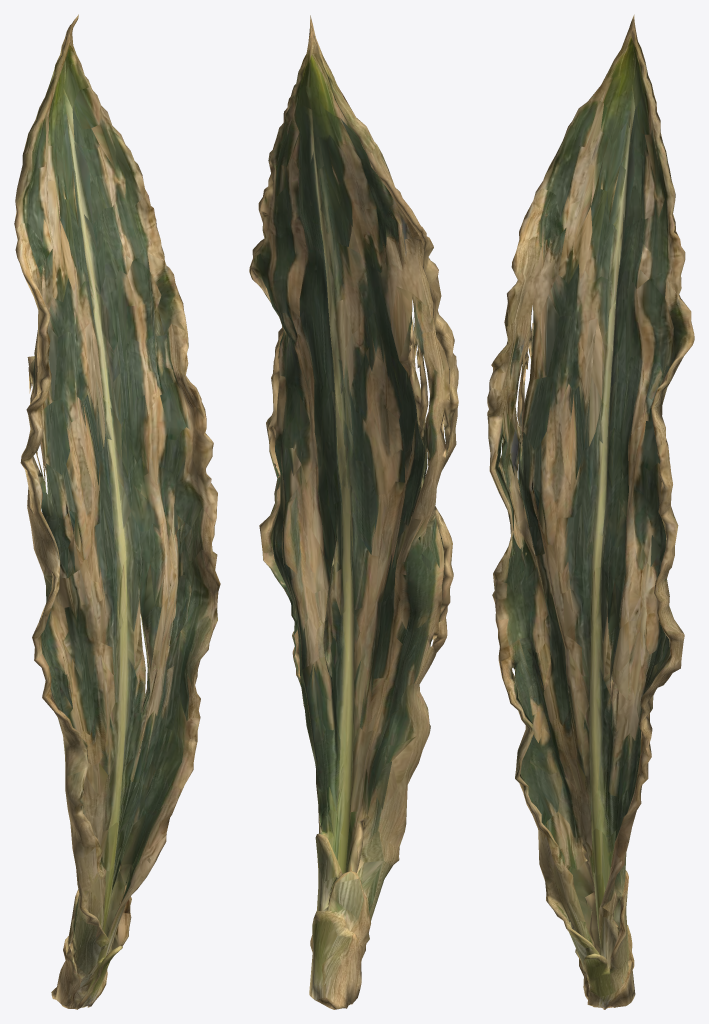
Rendered from corn_northern_leaf_blight.glb.
The picture shows the model from 3 angles, left to right: view 1: azimuth 30°, elevation 25°; view 2: azimuth 150°, elevation 25°; view 3: azimuth 330°, elevation 25°; orthographic projection.
Visible parts, largest first — view 1: corn_northern_leaf_blight; view 2: corn_northern_leaf_blight; view 3: corn_northern_leaf_blight.
Boxes of the visible parts, x1,y1,x2,y2 form: corn_northern_leaf_blight: (14, 14, 220, 1009); corn_northern_leaf_blight: (249, 15, 458, 1009); corn_northern_leaf_blight: (487, 14, 694, 1009).
Bounding box in the file's own units: 0.2117 × 1 × 0.1253.
Materials: 1 (1 with a texture image).
